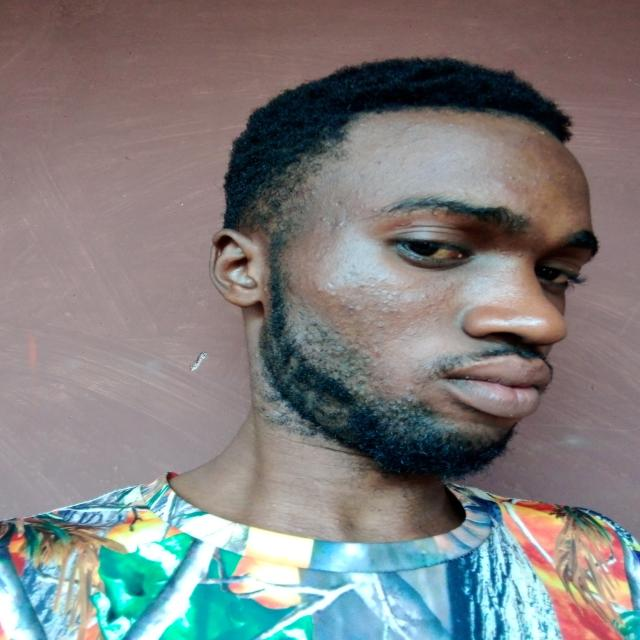Acne: (496, 182, 532, 192), (402, 120, 428, 132), (345, 305, 367, 315), (382, 141, 400, 150), (355, 280, 368, 292), (560, 174, 570, 187), (372, 346, 381, 359), (518, 136, 531, 145), (429, 315, 443, 323), (350, 262, 360, 273), (372, 159, 383, 169), (368, 283, 378, 293), (317, 215, 327, 225), (333, 221, 344, 230), (329, 291, 343, 298), (446, 281, 456, 290), (517, 248, 526, 258), (377, 277, 389, 284), (423, 302, 437, 308), (373, 188, 383, 196), (540, 202, 550, 210), (405, 141, 413, 151), (390, 291, 401, 298), (339, 298, 346, 309), (379, 308, 398, 312), (404, 298, 414, 305), (369, 207, 379, 214), (526, 207, 536, 214), (314, 288, 322, 296), (355, 194, 363, 202), (398, 163, 407, 170), (420, 292, 430, 298), (401, 285, 413, 290), (377, 321, 385, 328), (508, 174, 515, 182), (538, 129, 545, 136), (547, 173, 554, 180), (501, 250, 509, 256), (439, 293, 444, 302), (381, 298, 388, 304), (534, 235, 540, 241), (389, 125, 396, 129), (360, 122, 365, 127)
